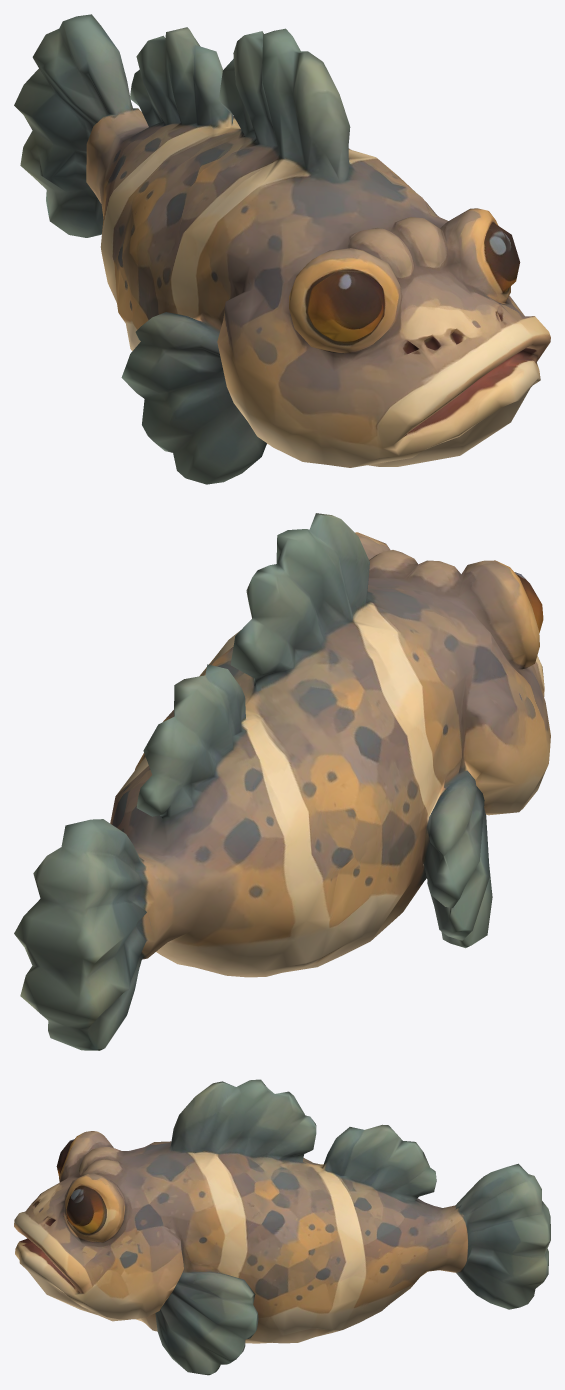
Rendered from pebble-goby.glb.
3 renders of one model, top to bottom at view 1: azimuth 30°, elevation 25°; view 2: azimuth 150°, elevation 25°; view 3: azimuth 270°, elevation 25°, orthographic. The views are drawn at different scales.
Parts seen in each view (by area): view 1: tripo_node_79b1bb37-c8e6-45b0-b0c0-583349b719cf; view 2: tripo_node_79b1bb37-c8e6-45b0-b0c0-583349b719cf; view 3: tripo_node_79b1bb37-c8e6-45b0-b0c0-583349b719cf.
Part boxes in pixels (<box>): tripo_node_79b1bb37-c8e6-45b0-b0c0-583349b719cf: <box>14,14,550,484</box>; tripo_node_79b1bb37-c8e6-45b0-b0c0-583349b719cf: <box>14,513,550,1050</box>; tripo_node_79b1bb37-c8e6-45b0-b0c0-583349b719cf: <box>14,1079,550,1375</box>.
Bounding box in the file's own units: 0.4408 × 0.5196 × 1.
1 material, 1 textured.
